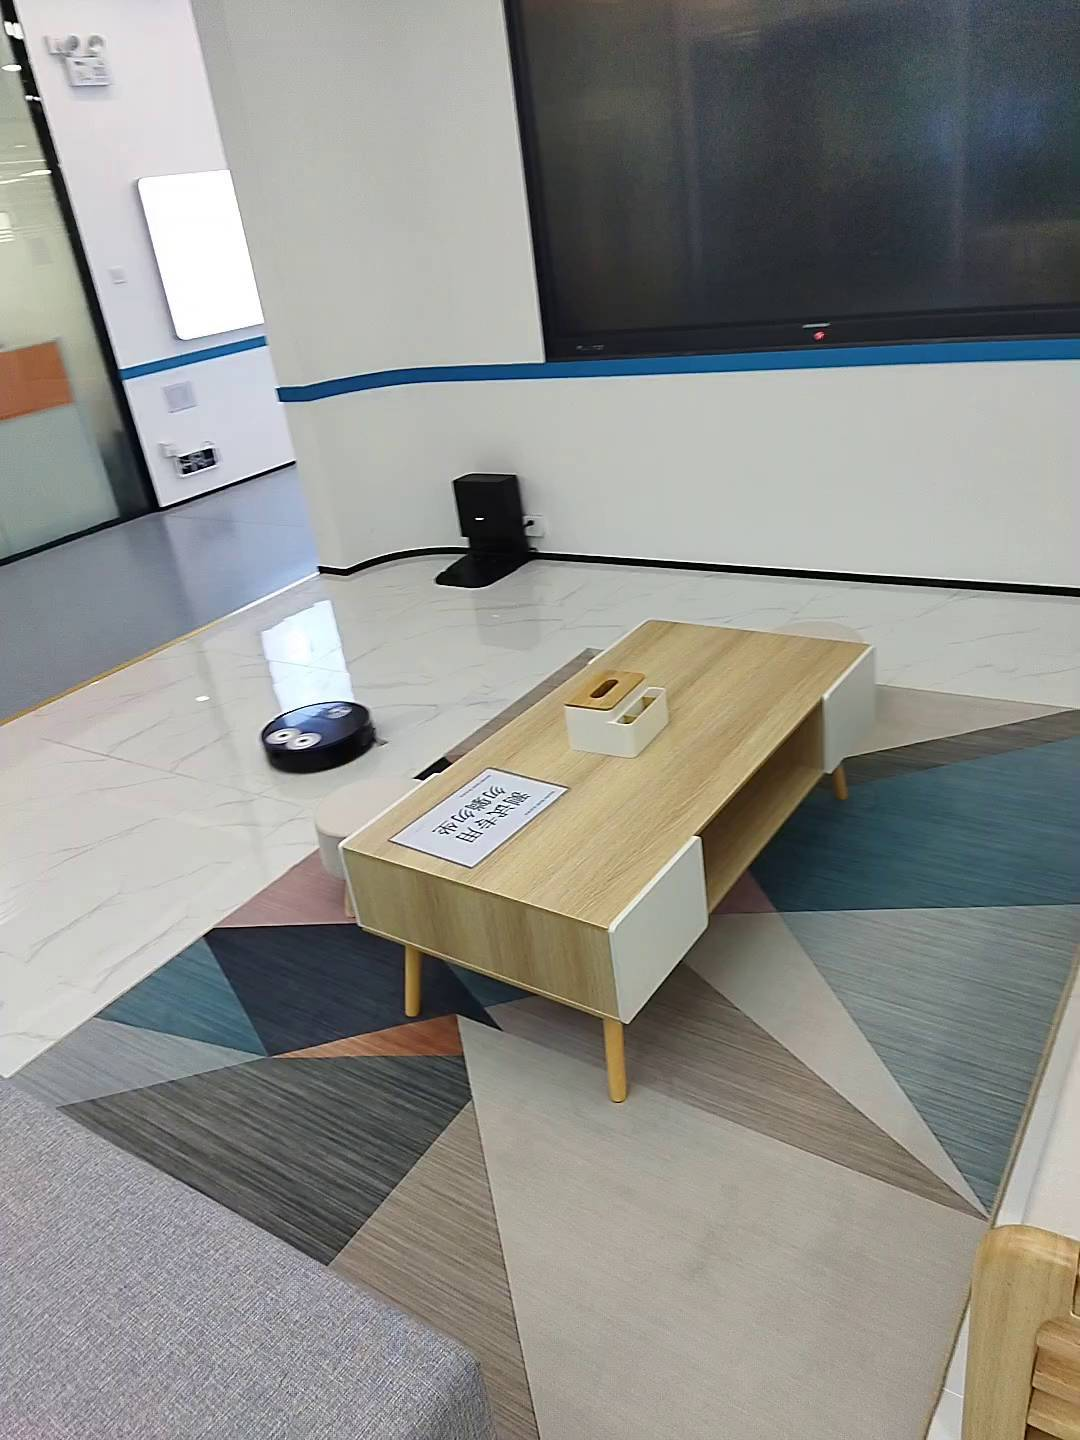dust collecting barrel: (431, 473, 535, 588)
